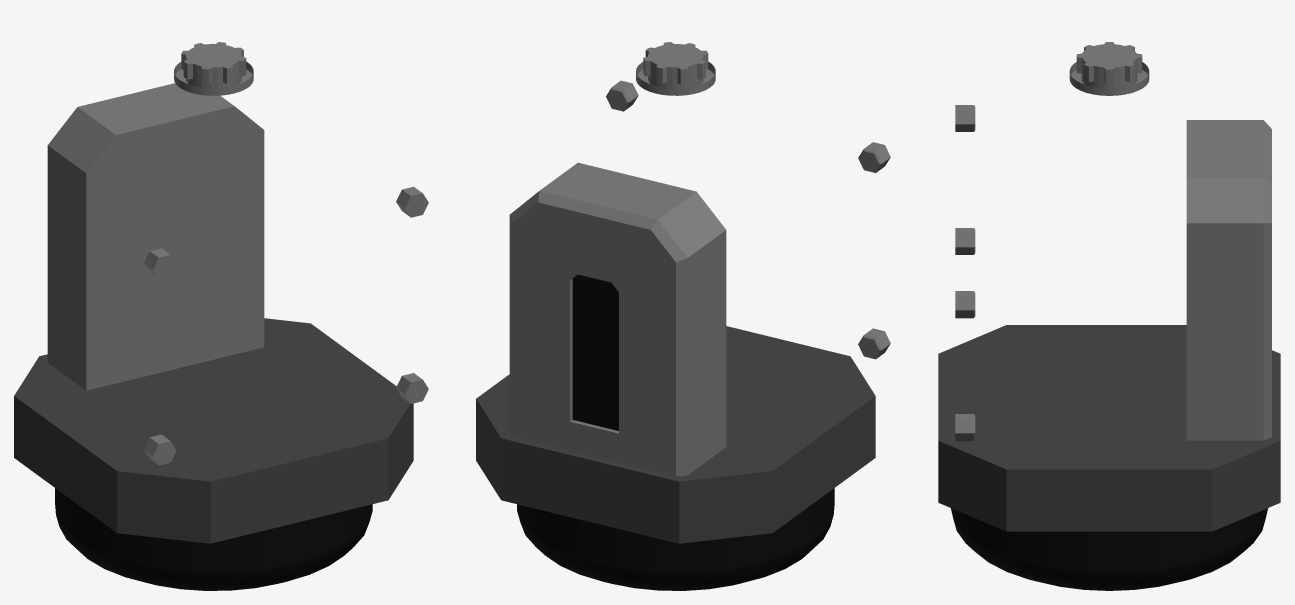
Rendered from FaDongJi_GML_off.FBX.
3 views of the same model, side by side, from view 1: azimuth 30°, elevation 25°; view 2: azimuth 150°, elevation 25°; view 3: azimuth 270°, elevation 25° (orthographic).
Visible parts, largest first — view 1: Box001; view 2: Box001; view 3: Box001.
Part boxes in pixels (left/top/right/bottom): Box001: left=14, top=42, right=428, bottom=590; Box001: left=476, top=42, right=890, bottom=590; Box001: left=938, top=42, right=1280, bottom=590.
Size of the model in its own units: 2 by 3.1 by 2.
